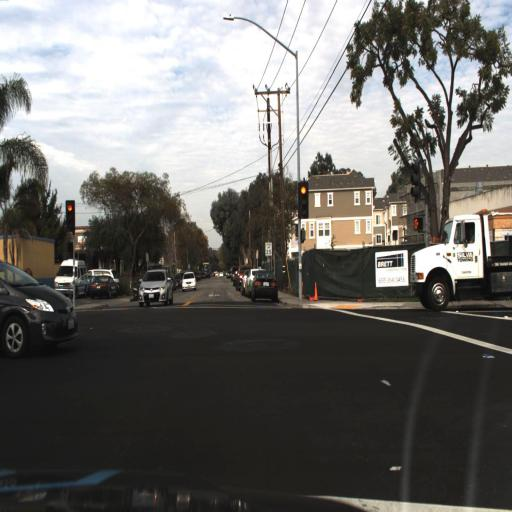car: (0, 254, 88, 358), (51, 260, 87, 299), (140, 270, 173, 309), (250, 268, 278, 305), (181, 272, 196, 290)
trafficLight: (299, 179, 311, 216)
trafficLight-Red: (64, 197, 76, 230)
truck: (405, 199, 511, 320)
